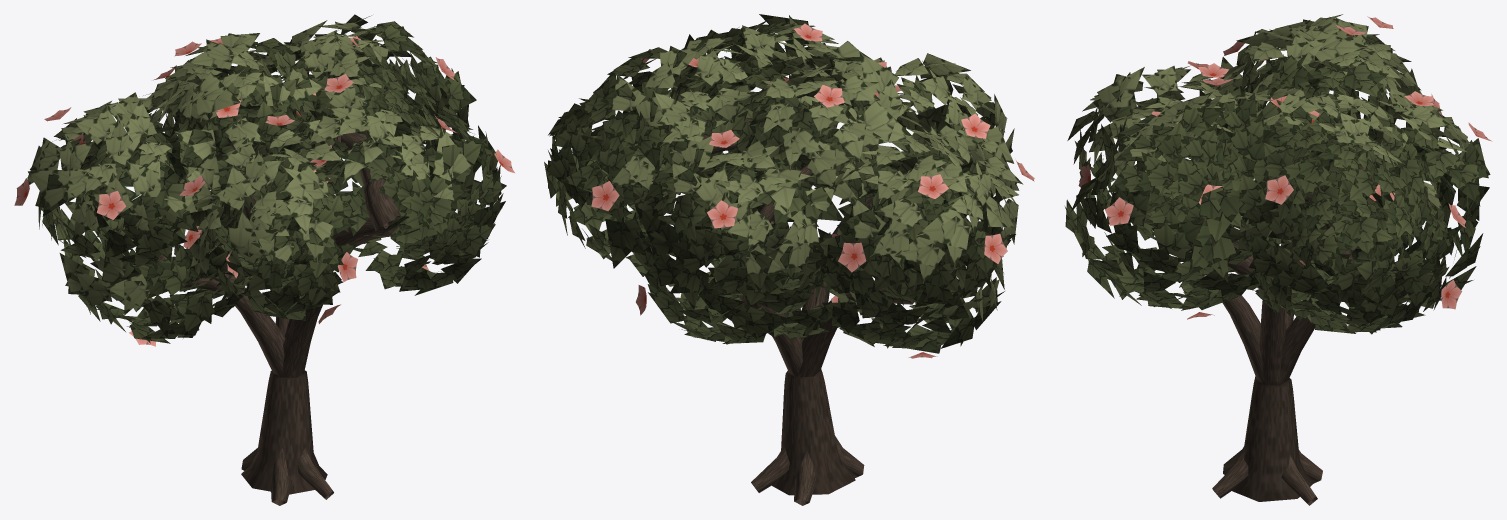
File: tree_blossom_hd.glb
The picture shows the model from 3 angles, left to right: view 1: azimuth 30°, elevation 25°; view 2: azimuth 150°, elevation 25°; view 3: azimuth 270°, elevation 25°; orthographic projection. The views are drawn at different scales.
Parts seen in each view (by area): view 1: tree_blossom_lod0; view 2: tree_blossom_lod0; view 3: tree_blossom_lod0.
Part boxes in pixels (x1=…): tree_blossom_lod0: x1=14, y1=14, x2=514, y2=505; tree_blossom_lod0: x1=544, y1=14, x2=1034, y2=505; tree_blossom_lod0: x1=1065, y1=14, x2=1492, y2=505.
Size of the model in its own units: 3.15 by 2.93 by 2.59.
1 material, 1 textured.
